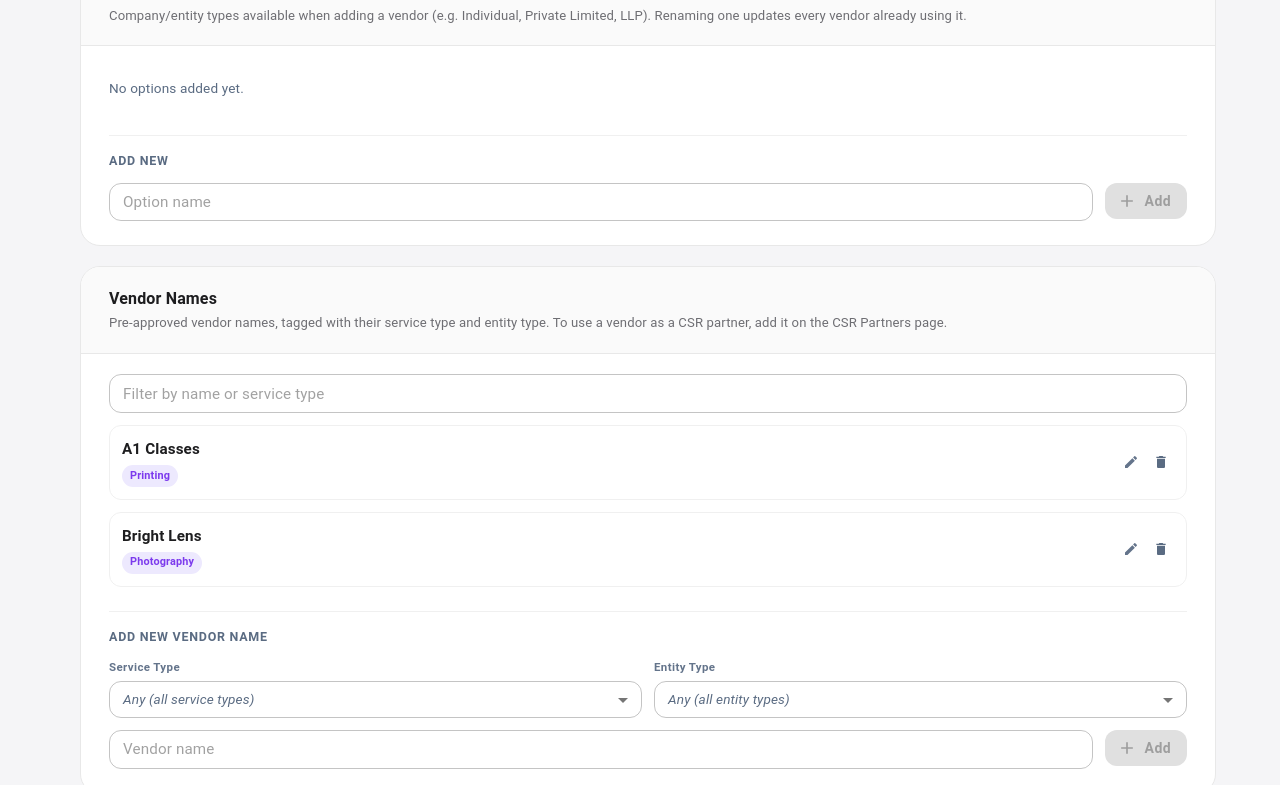
Test: the filter box narrows the vendor names by name or service type
(page scrolled)
Expected: the text "Bright Lens" is shown, [122,525,202,548]
In the field named "Filter vendor names": x=648, y=394 [109,374,1187,413], type "bright"
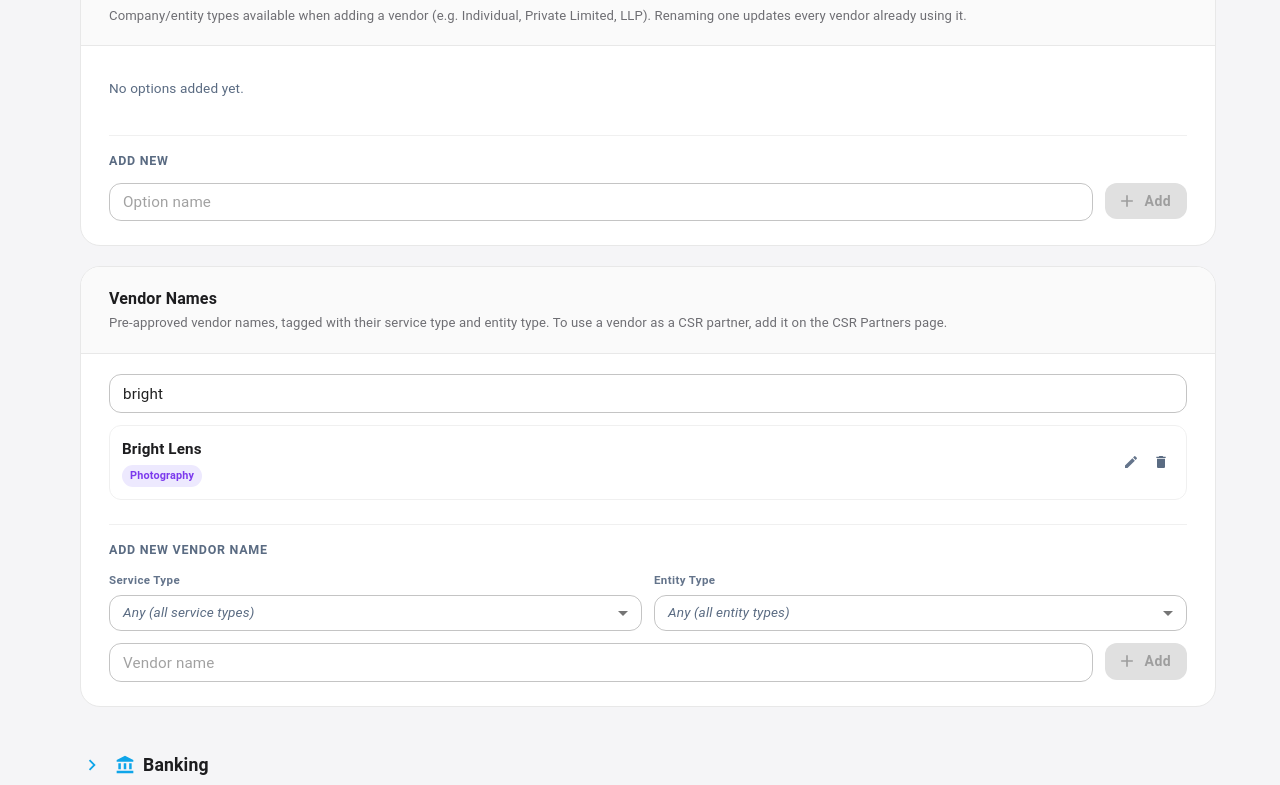
Expected: the text "Bright Lens" is shown, [122,438,202,461]
Result: the text "A1 Classes" is gone
Replace the text in the field named "Filter vendor names" with "printing": x=648, y=394 [109,374,1187,413]
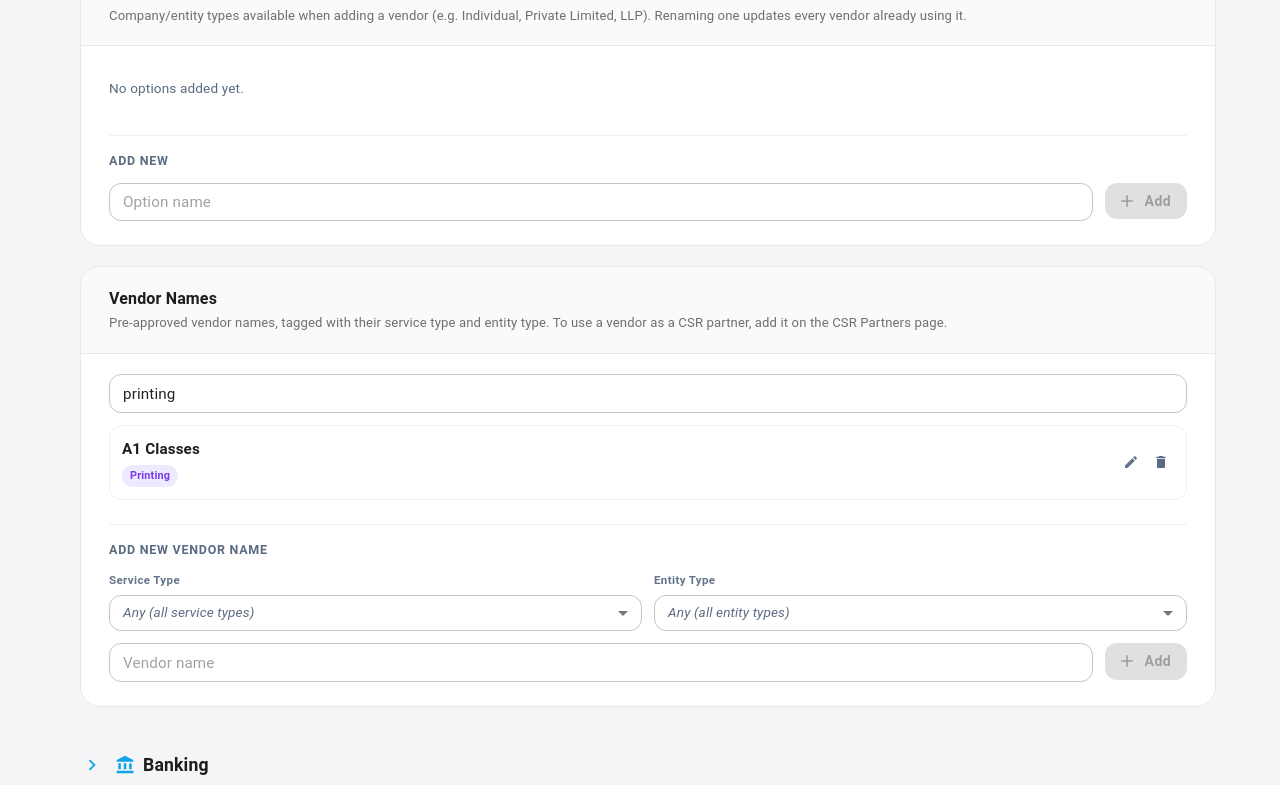
Result: the text "A1 Classes" is shown at [122,438,200,461]
Result: the text "Bright Lens" is gone
Replace the text in the field named "Filter vendor names" with "zzz": x=648, y=394 [109,374,1187,413]
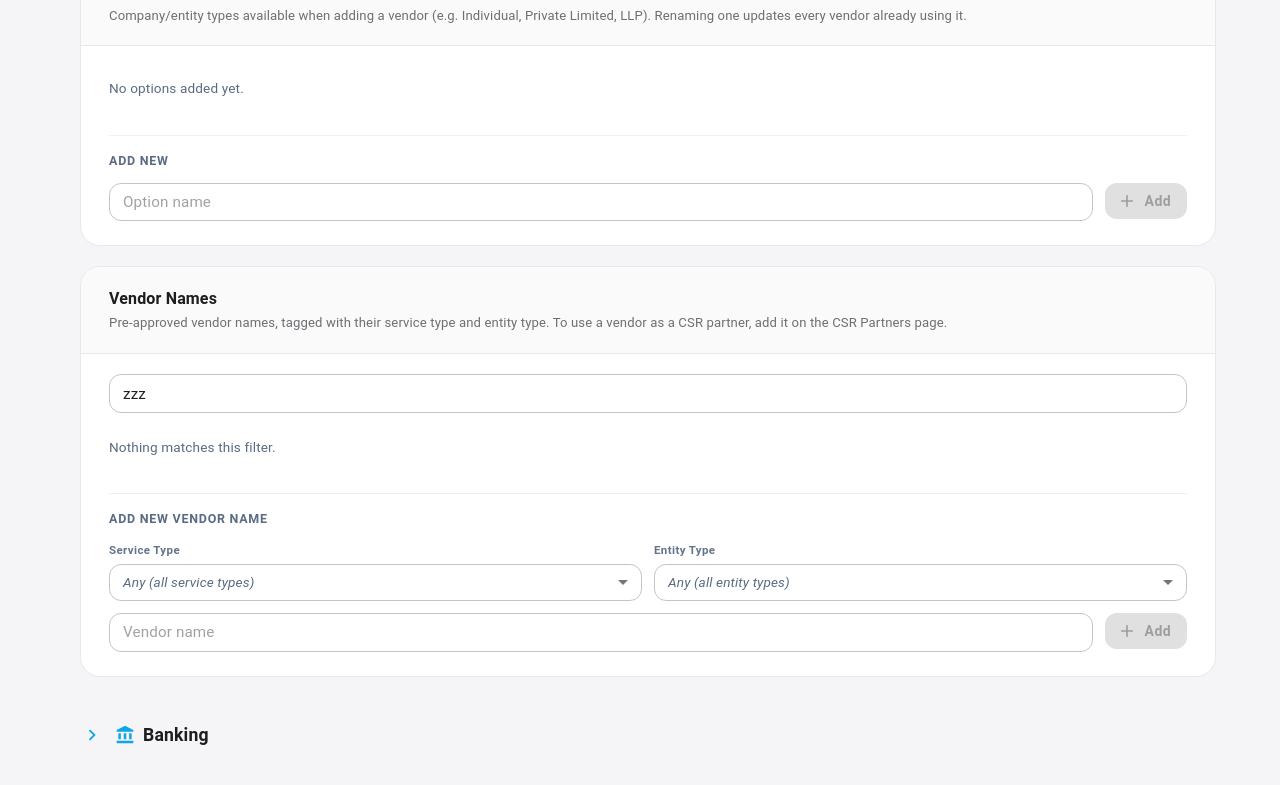
Result: the text "Nothing matches this filter." is shown at [109,439,276,455]
